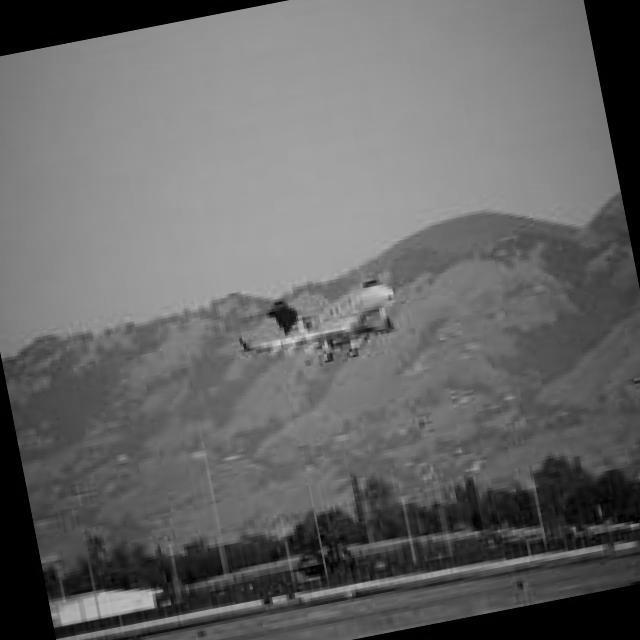aeroplane: (215, 254, 411, 387)
